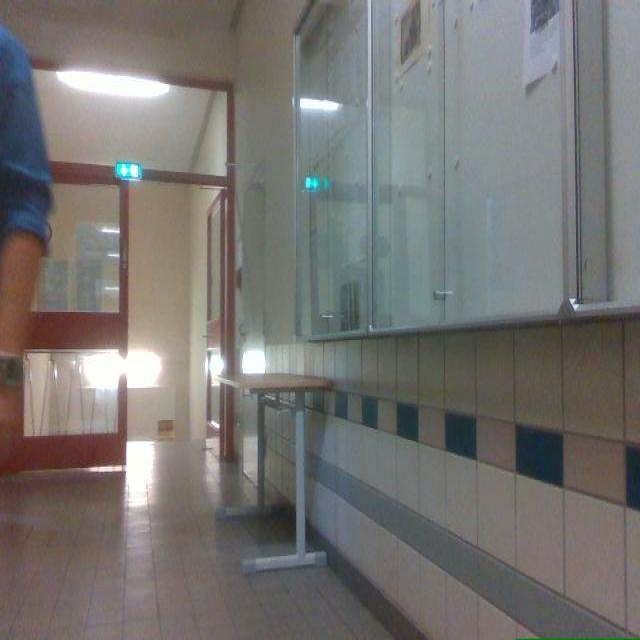humans: (0, 25, 51, 465)
objects: (215, 373, 332, 572)
